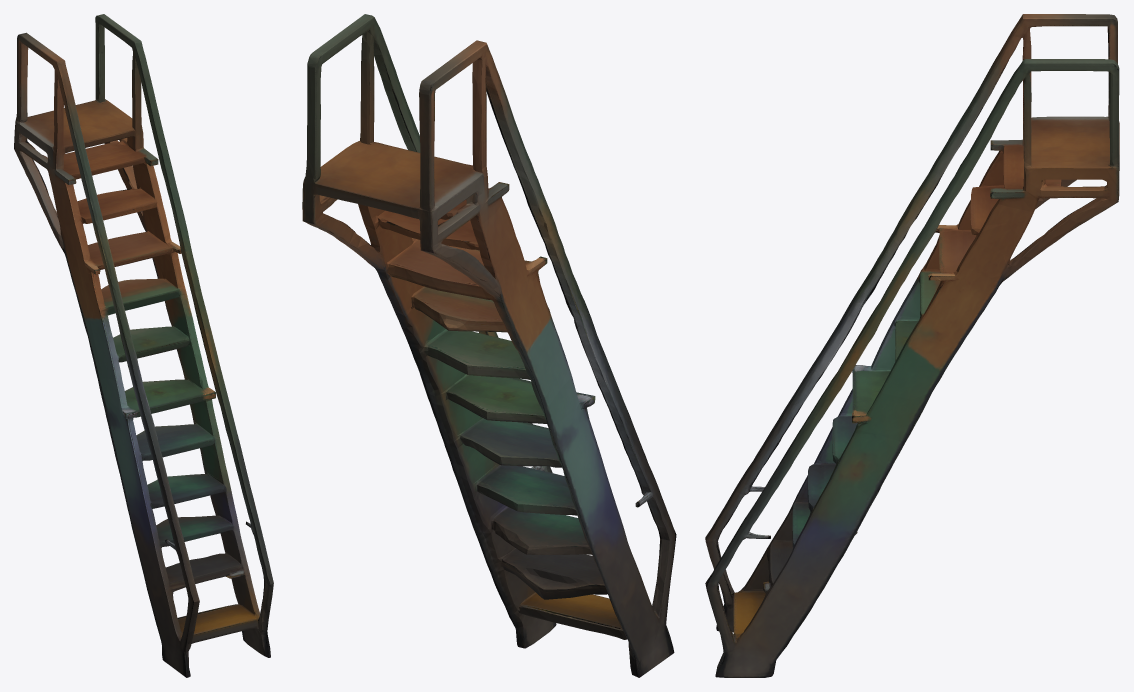
File: fire_escape_ladder.glb
3 renders of one model, left to right at view 1: azimuth 30°, elevation 25°; view 2: azimuth 150°, elevation 25°; view 3: azimuth 270°, elevation 25°, orthographic. The views are drawn at different scales.
Parts seen in each view (by area): view 1: world; view 2: world; view 3: world.
Part boxes in pixels (<box>): world: <box>14,14,273,677</box>; world: <box>302,14,676,677</box>; world: <box>705,14,1119,677</box>.
Bounding box in the file's own units: 0.1905 × 1 × 0.6105.
1 material, 1 textured.
